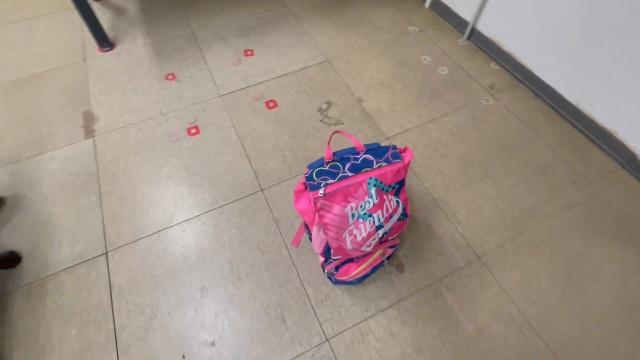Backpack: (285, 124, 417, 292)
